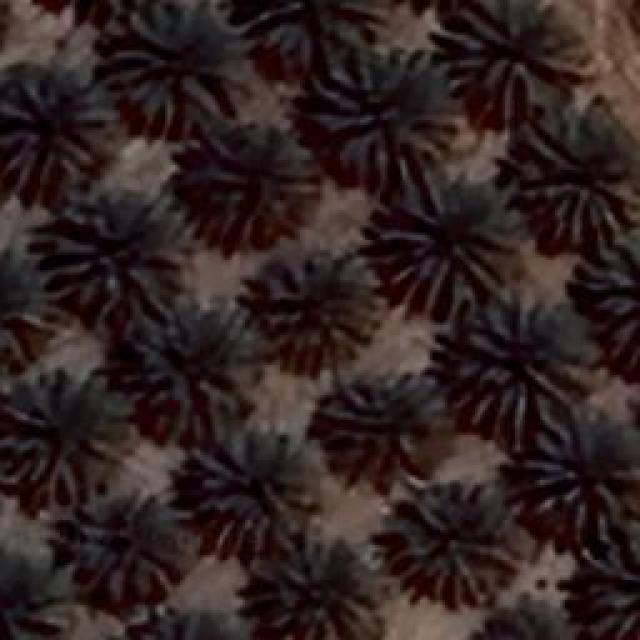PalmTree: (308, 42, 460, 188), (368, 170, 520, 315), (34, 188, 188, 322), (100, 2, 250, 138), (444, 292, 578, 442), (125, 302, 258, 440), (438, 2, 592, 116), (190, 420, 320, 555), (375, 480, 510, 608), (315, 367, 450, 495), (507, 108, 635, 242), (2, 368, 140, 492), (258, 245, 380, 370), (200, 120, 320, 245), (74, 485, 188, 600), (2, 70, 116, 185), (271, 545, 371, 640), (544, 430, 636, 530), (580, 237, 640, 375), (0, 246, 55, 375), (260, 0, 387, 52), (584, 534, 638, 638), (0, 560, 68, 640), (106, 603, 249, 640), (465, 595, 576, 640), (28, 0, 173, 29)
